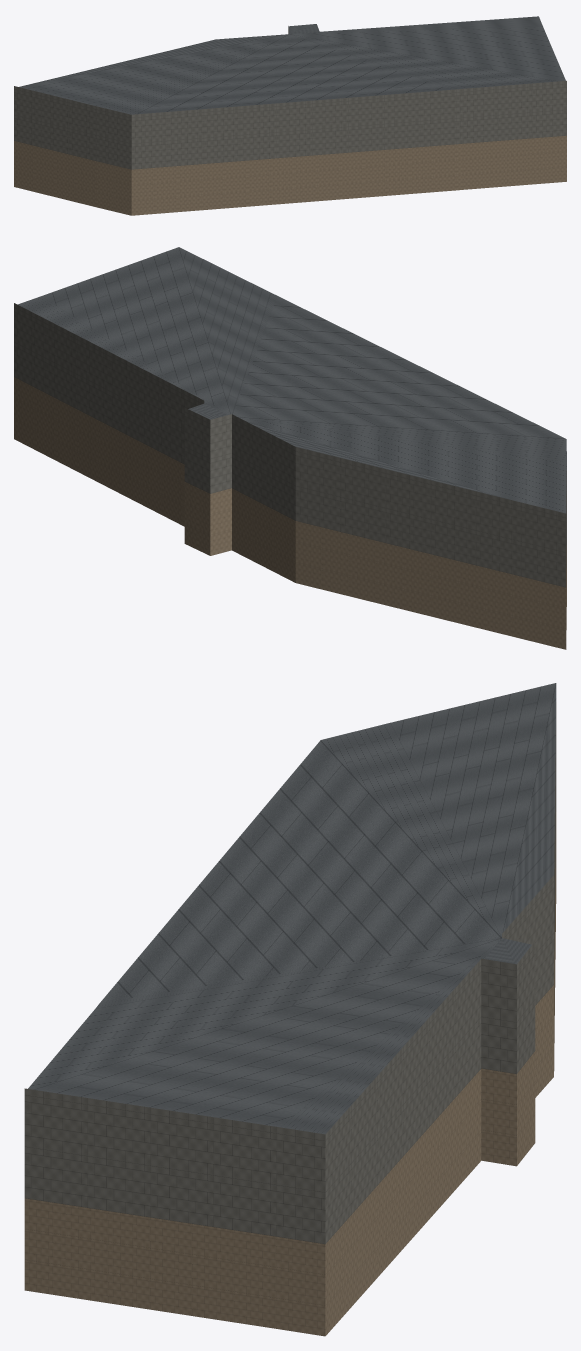
The model's file is core_0128.gltf.
3 views of the same model, one above another, from view 1: azimuth 30°, elevation 25°; view 2: azimuth 150°, elevation 25°; view 3: azimuth 270°, elevation 25° (orthographic). The views are drawn at different scales.
Visible parts, largest first — view 1: core_0128; view 2: core_0128; view 3: core_0128.
Boxes of the visible parts, x1,y1,x2,y2 form: core_0128: (14,16,566,215); core_0128: (14,247,566,649); core_0128: (24,683,556,1336).
Size of the model in its own units: 54.09 by 11.18 by 26.67.
3 materials, 3 textured.
